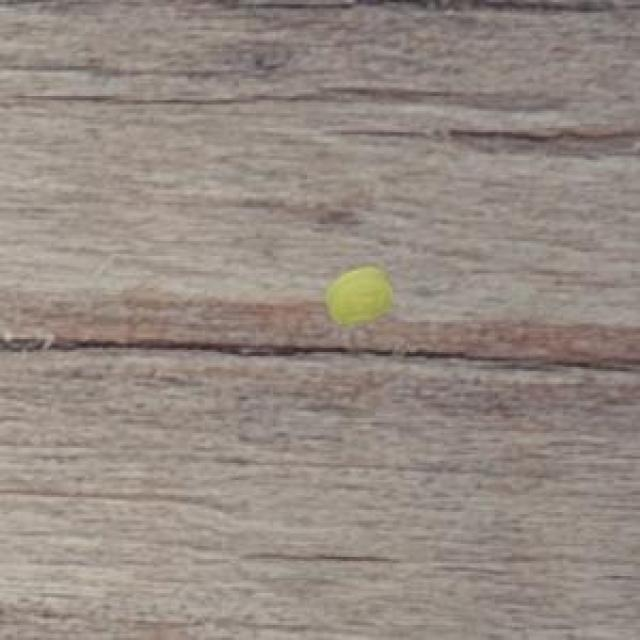Decolgen: (317, 251, 402, 338)
